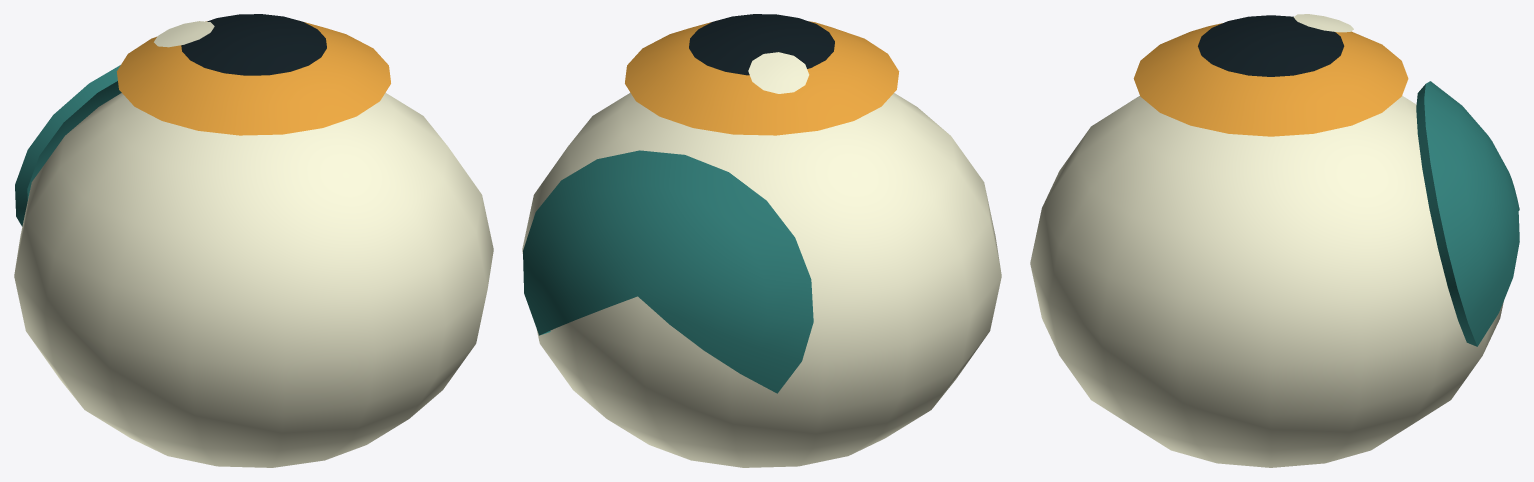
Rendered from eye_round.glb.
3 renders of one model, left to right at view 1: azimuth 30°, elevation 25°; view 2: azimuth 150°, elevation 25°; view 3: azimuth 270°, elevation 25°, orthographic.
Visible parts, largest first — view 1: eye_round, eye_round_pupil, eye_round_lid; view 2: eye_round, eye_round_lid, eye_round_pupil; view 3: eye_round, eye_round_pupil, eye_round_lid.
Part boxes in pixels (<box>): eye_round: <box>14,92,493,467</box>; eye_round_pupil: <box>116,14,390,135</box>; eye_round_lid: <box>15,65,121,226</box>; eye_round: <box>522,92,1001,467</box>; eye_round_lid: <box>523,150,813,393</box>; eye_round_pupil: <box>625,14,899,135</box>; eye_round: <box>1030,95,1503,467</box>; eye_round_pupil: <box>1133,14,1408,136</box>; eye_round_lid: <box>1416,81,1519,346</box>.
Bounding box in the file's own units: 0.4 × 0.372 × 0.4065.
